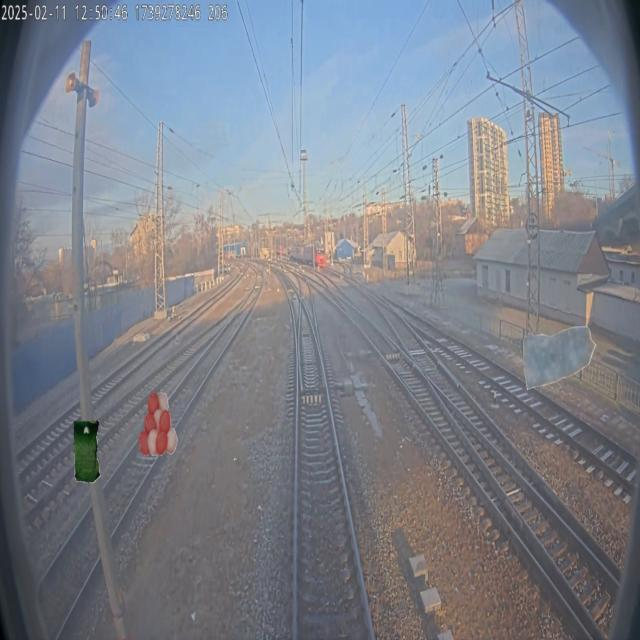balloon: (139, 392, 177, 456)
plastic bag: (522, 326, 596, 390), (73, 419, 101, 483)
